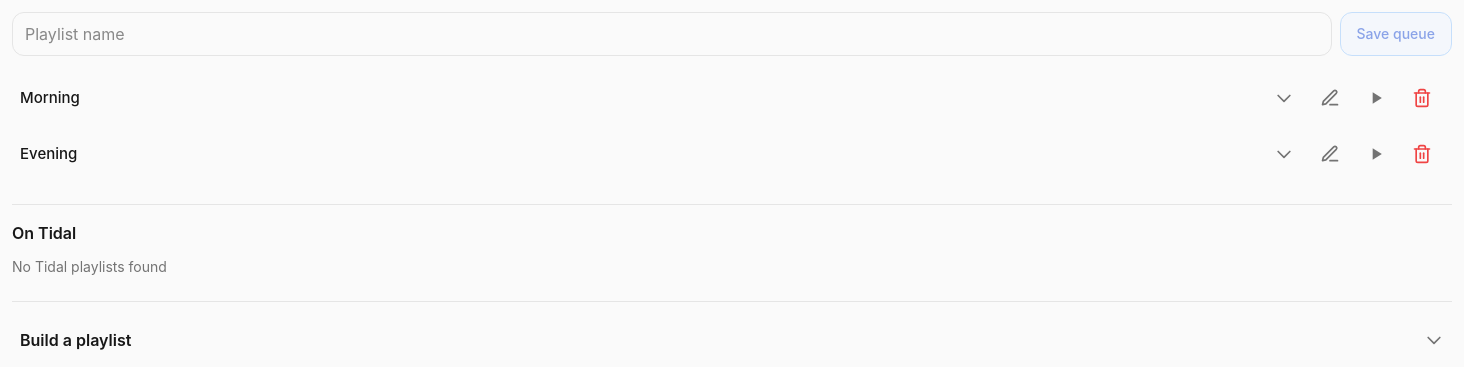
Test case: PlaylistsPanel › rename with an inline editor › cancels on Escape
Click the button with test id "playlist-rename-button" at (1330, 154), box x1=1308 y1=132 x2=1352 y2=176
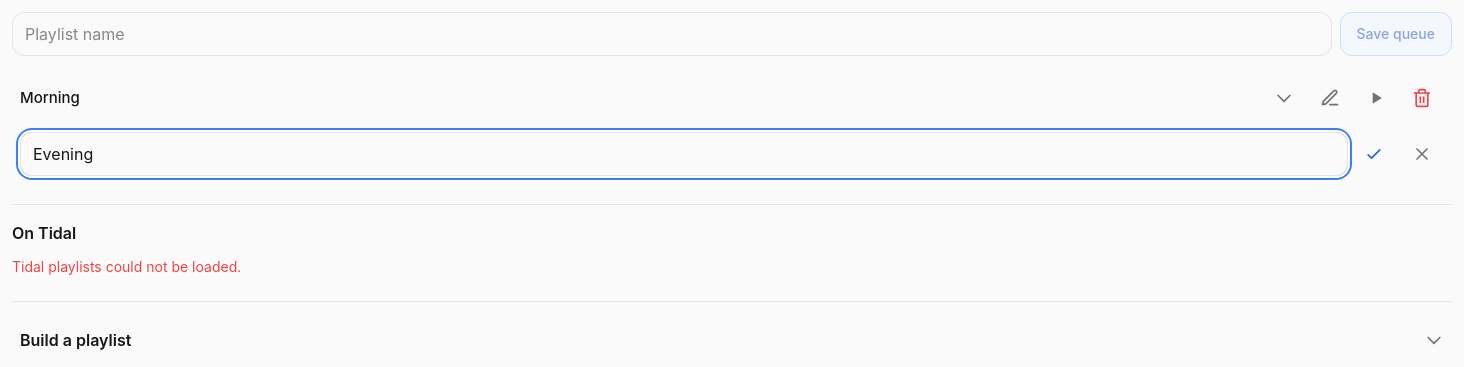
Replace the text in the field with test id "playlist-rename-input" with "Never sent" at (684, 154), box x1=20 y1=132 x2=1348 y2=176
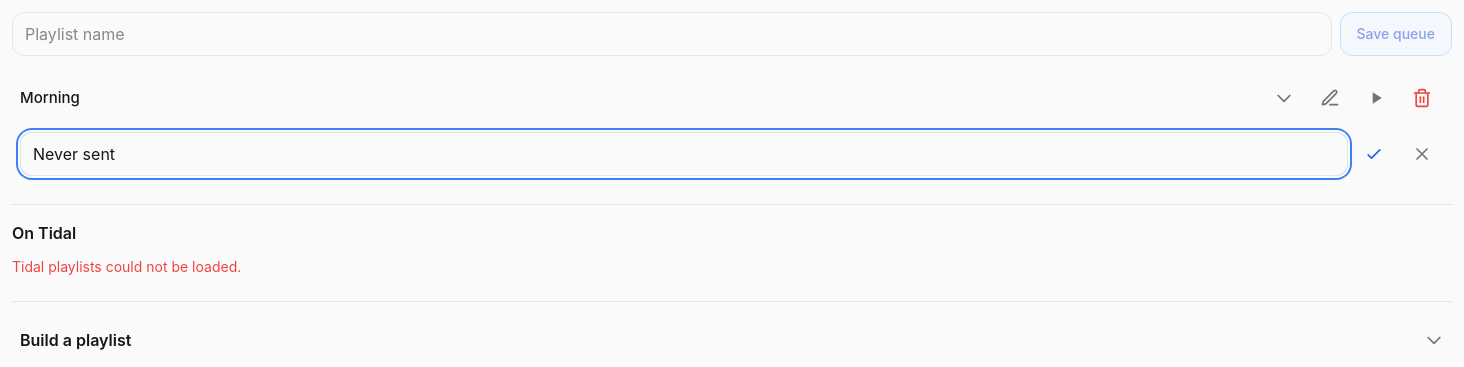
Press Esc in the field with test id "playlist-rename-input", box x1=20 y1=132 x2=1348 y2=176
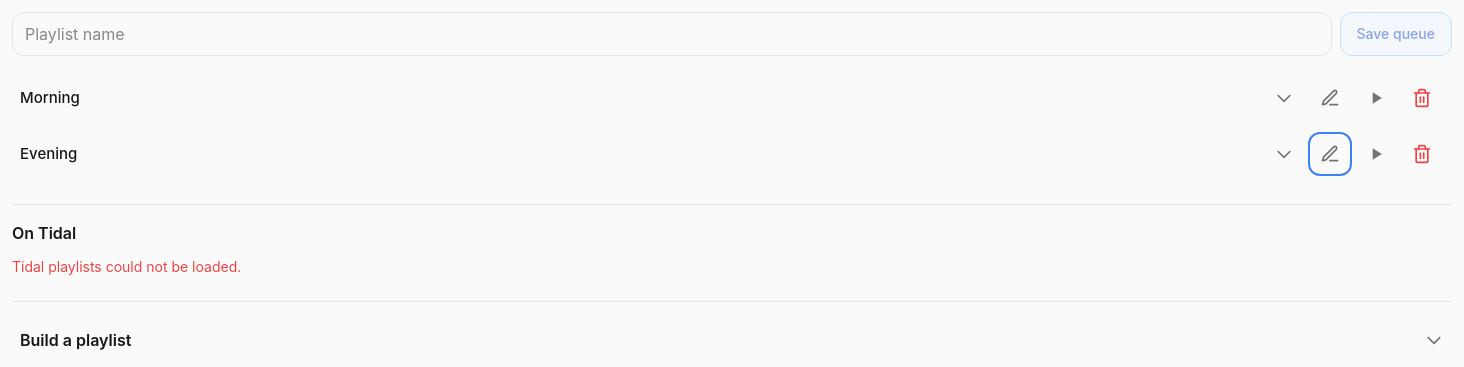
Expected: the list item with test id "playlist-row" reads "Evening", x1=20 y1=144 x2=77 y2=163
